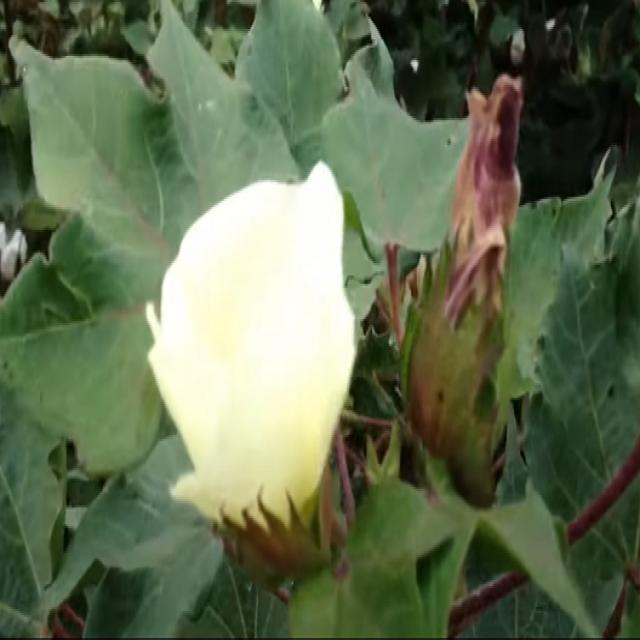Cotton Blossom: (140, 173, 366, 576)
Early Boll: (394, 226, 516, 514)
